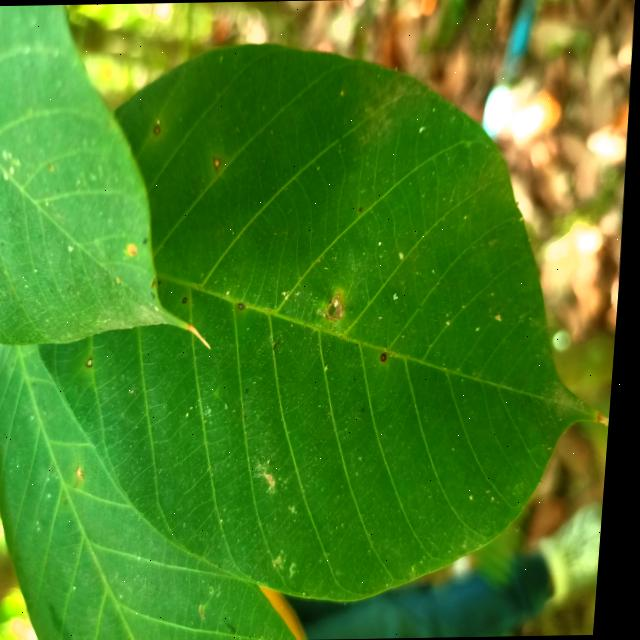Colletotrichum: (153, 124, 162, 135), (214, 157, 222, 169), (384, 353, 390, 362), (241, 302, 247, 310), (185, 297, 192, 303)
Leaf-Blight: (189, 323, 217, 349)
